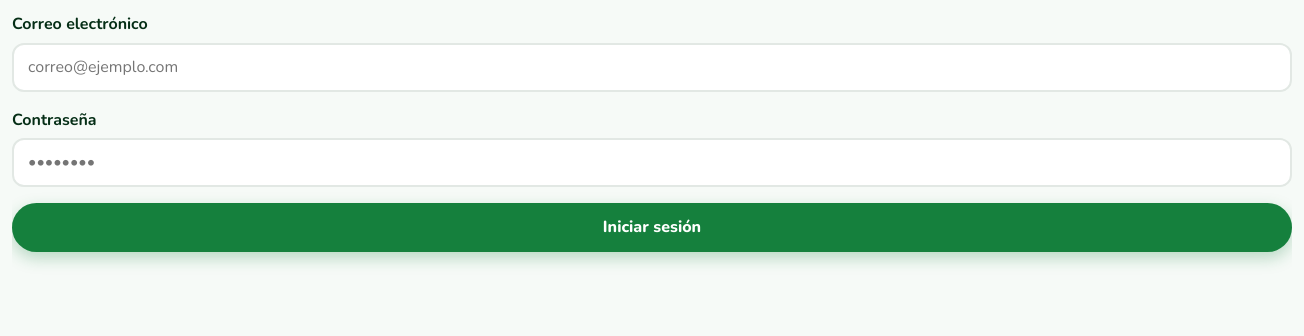
Test: AuthForm › validates required fields and email format
The width and height of the screenshot is (1304, 336).
Click the button "Iniciar sesión".
click(652, 228)  # box [12,203,1292,252]
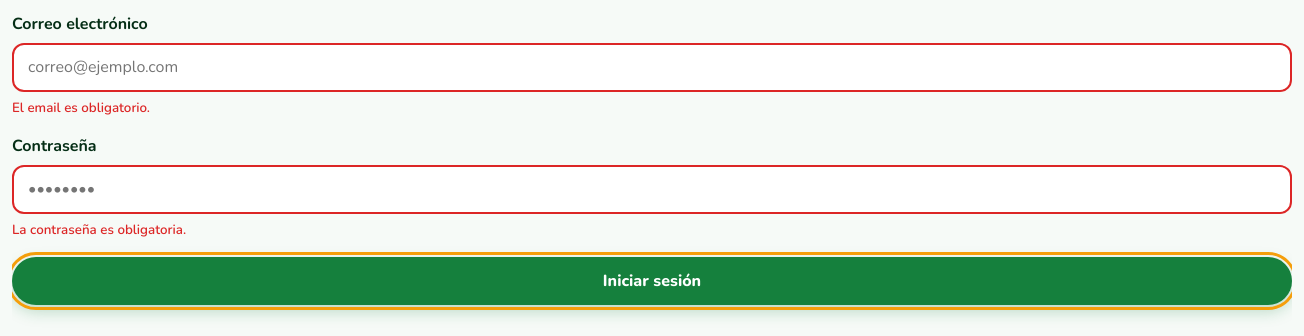
expect the text "El email es obligatorio." is shown: met, box [12,99,150,117]
expect the text "La contraseña es obligatoria." is shown: met, box [12,221,186,239]
